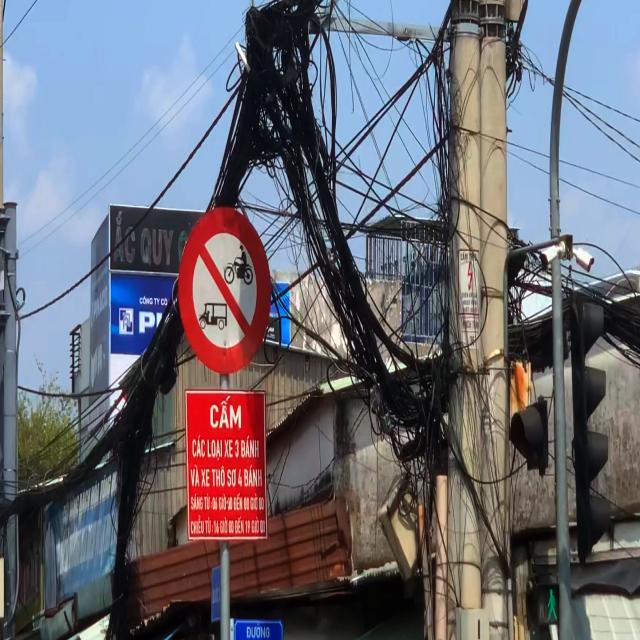Cam con lai: (176, 205, 272, 378)
